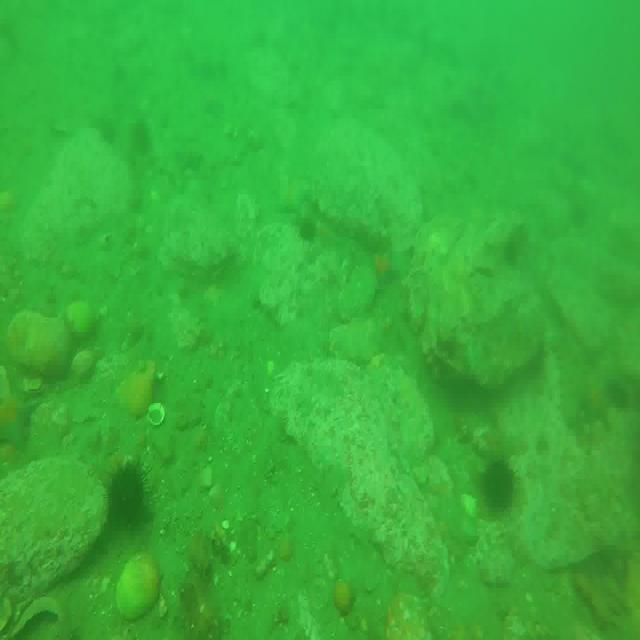echinus: (106, 460, 148, 529), (482, 458, 514, 514), (130, 116, 153, 157), (298, 212, 318, 245)
scallop: (234, 184, 257, 247), (146, 404, 166, 429)
starfish: (372, 250, 401, 288)
